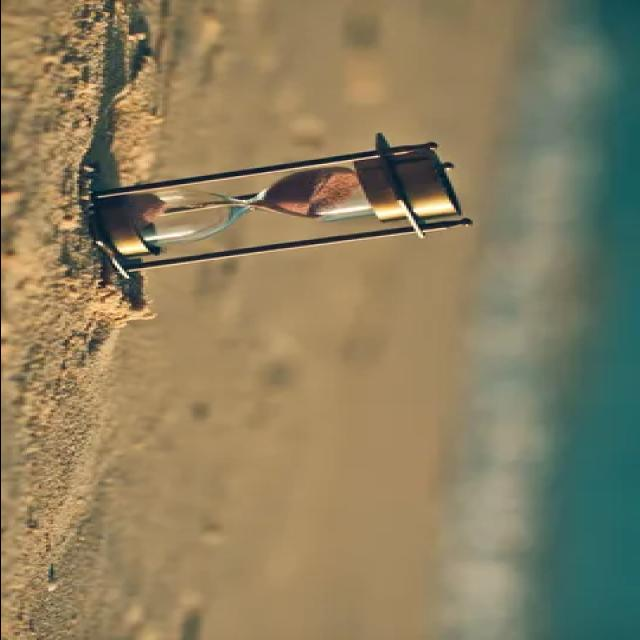clock: (89, 128, 476, 298)
